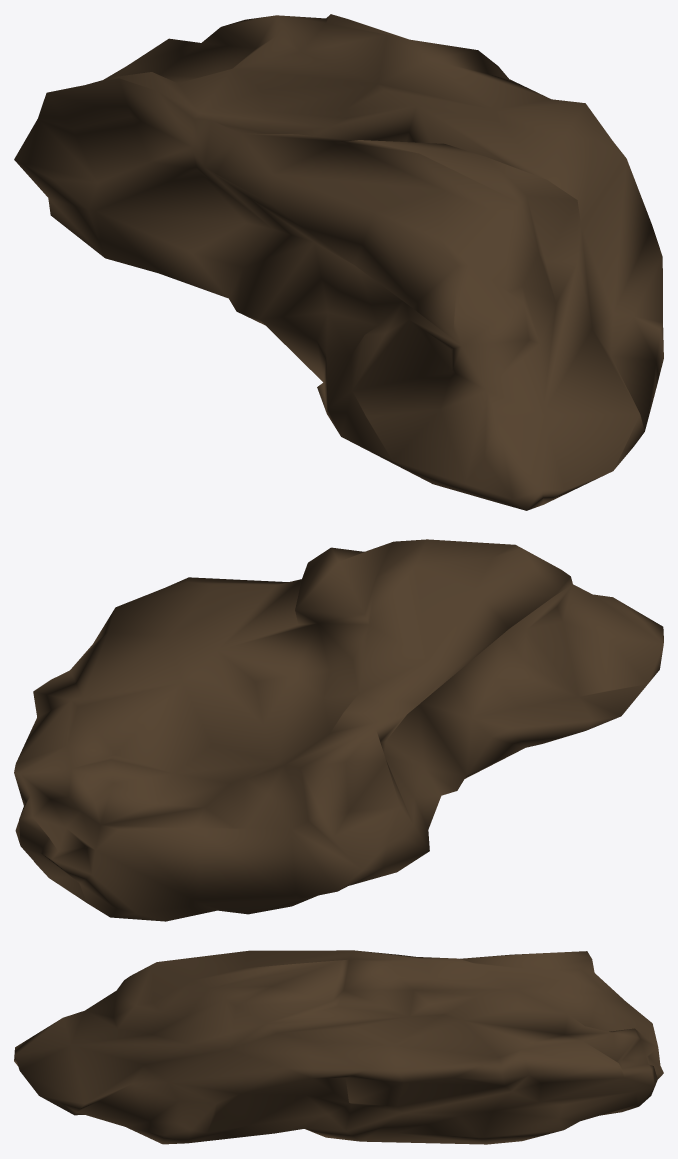
The model's file is rock_09-lod2.glb.
3 renders of one model, top to bottom at view 1: azimuth 30°, elevation 25°; view 2: azimuth 150°, elevation 25°; view 3: azimuth 270°, elevation 25°, orthographic. The views are drawn at different scales.
Parts seen in each view (by area): view 1: rock_09_LOD0; view 2: rock_09_LOD0; view 3: rock_09_LOD0.
Boxes of the visible parts, <box> form: rock_09_LOD0: <box>14,14,663,510</box>; rock_09_LOD0: <box>14,539,663,921</box>; rock_09_LOD0: <box>14,950,663,1144</box>.
Size of the model in its own units: 0.0738 by 0.0325 by 0.1442.
